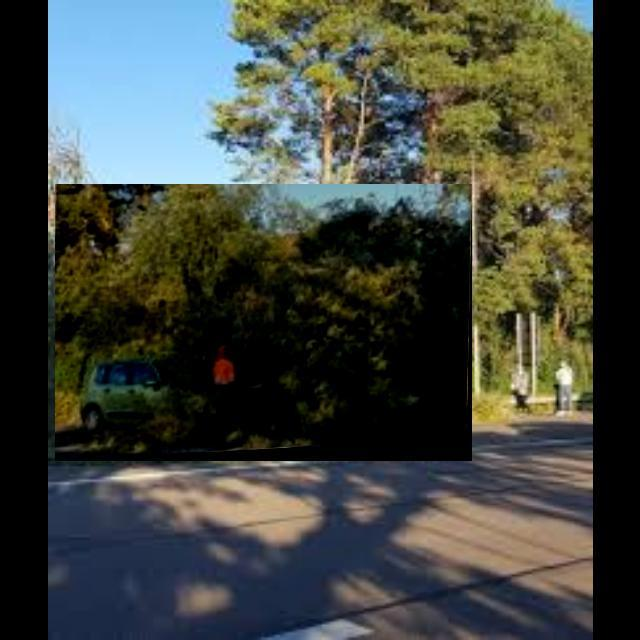fallen_tree: (55, 184, 473, 462)
